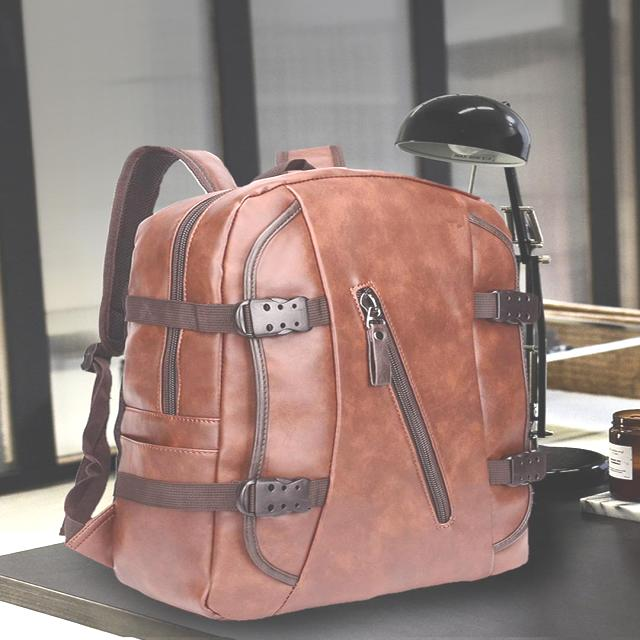backpack: (60, 144, 550, 622)
